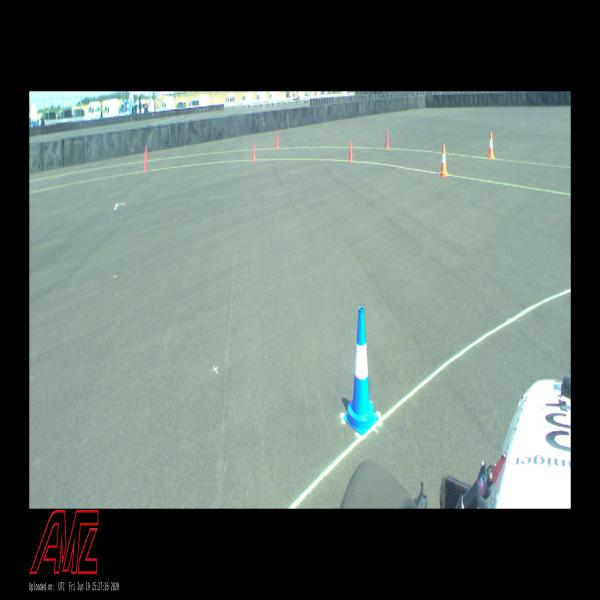blue_cone: (344, 308, 379, 434)
orange_cone: (439, 145, 448, 176), (488, 132, 494, 158)
unknown_cone: (348, 140, 353, 162), (252, 141, 256, 161), (386, 129, 390, 148), (275, 133, 279, 149), (144, 152, 147, 171), (145, 145, 148, 161)
